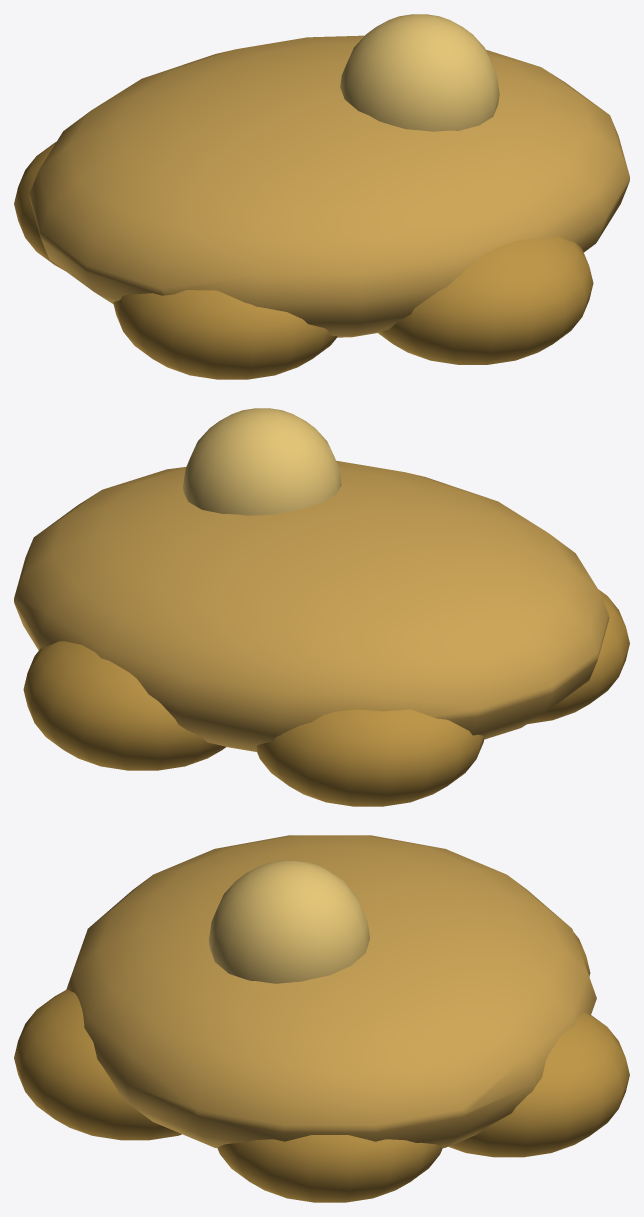
The model's file is gosma.glb.
The picture shows the model from 3 angles, top to bottom: view 1: azimuth 30°, elevation 25°; view 2: azimuth 150°, elevation 25°; view 3: azimuth 270°, elevation 25°; orthographic projection.
Visible parts, largest first — view 1: gosma; view 2: gosma; view 3: gosma.
Part boxes in pixels (<box>): gosma: <box>14,14,629,379</box>; gosma: <box>14,408,629,806</box>; gosma: <box>14,835,629,1202</box>.
Bounding box in the file's own units: 1.41 × 0.657 × 1.37.
